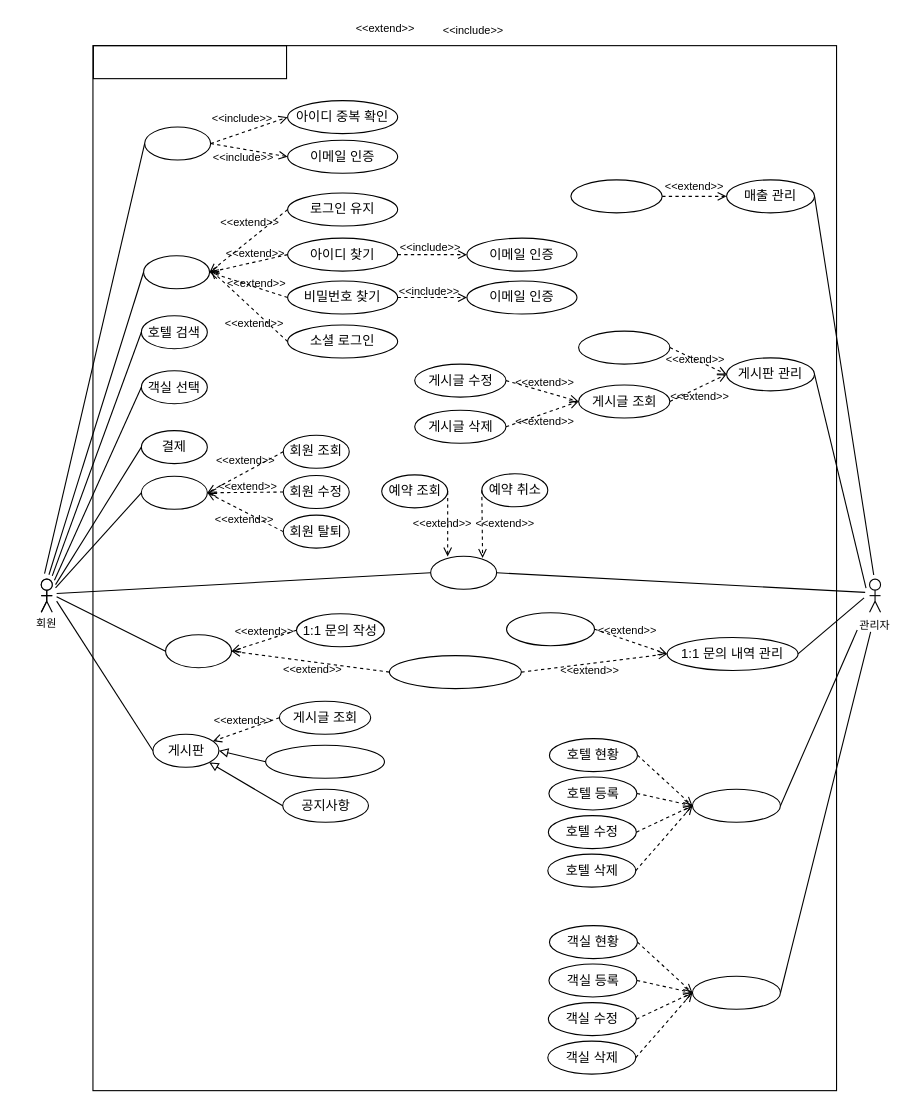
The diagram is 921 pixels wide and 1110 high, and some of its shapes have lost their labels. Here are the shapes that lost their labels. From the top down, the centre of each, then its label:
At point 189,62: "ITHotel (호텔 예약 사이트)".
At point 177,143: "회원가입".
At point 616,196: "매출 현황".
At point 176,272: "로그인".
At point 624,347: "게시글 작성".
At point 173,492: "회원 관리".
At point 463,572: "예약 관리".
At point 550,629: "1:1 문의 답변".
At point 198,651: "1:1 문의".
At point 454,671: "1:1 문의 내역 조회".
At point 324,761: "자주 묻는 질문".
At point 735,805: "호텔 관리".
At point 735,992: "객실 관리".
